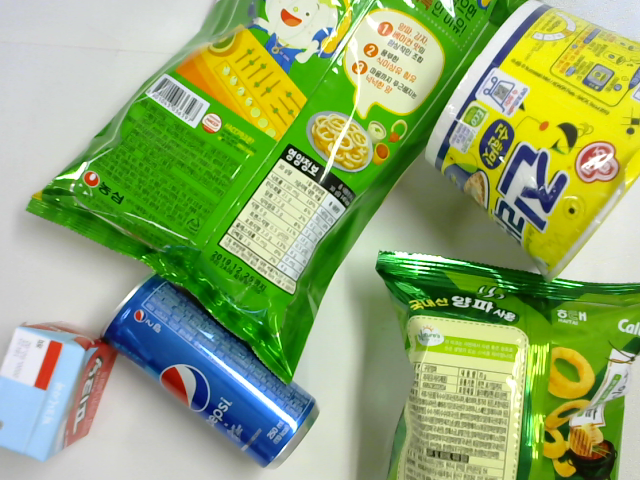Grilled_Onions: (373, 249, 635, 480)
Jinlamyeon_Mild_Taste_Large_Cup: (424, 1, 639, 287)
Oninon_Ring: (28, 1, 521, 386)
Pepsi_Cola_Can_250ml: (96, 273, 320, 469)
Picnic_Apple: (1, 319, 117, 459)
